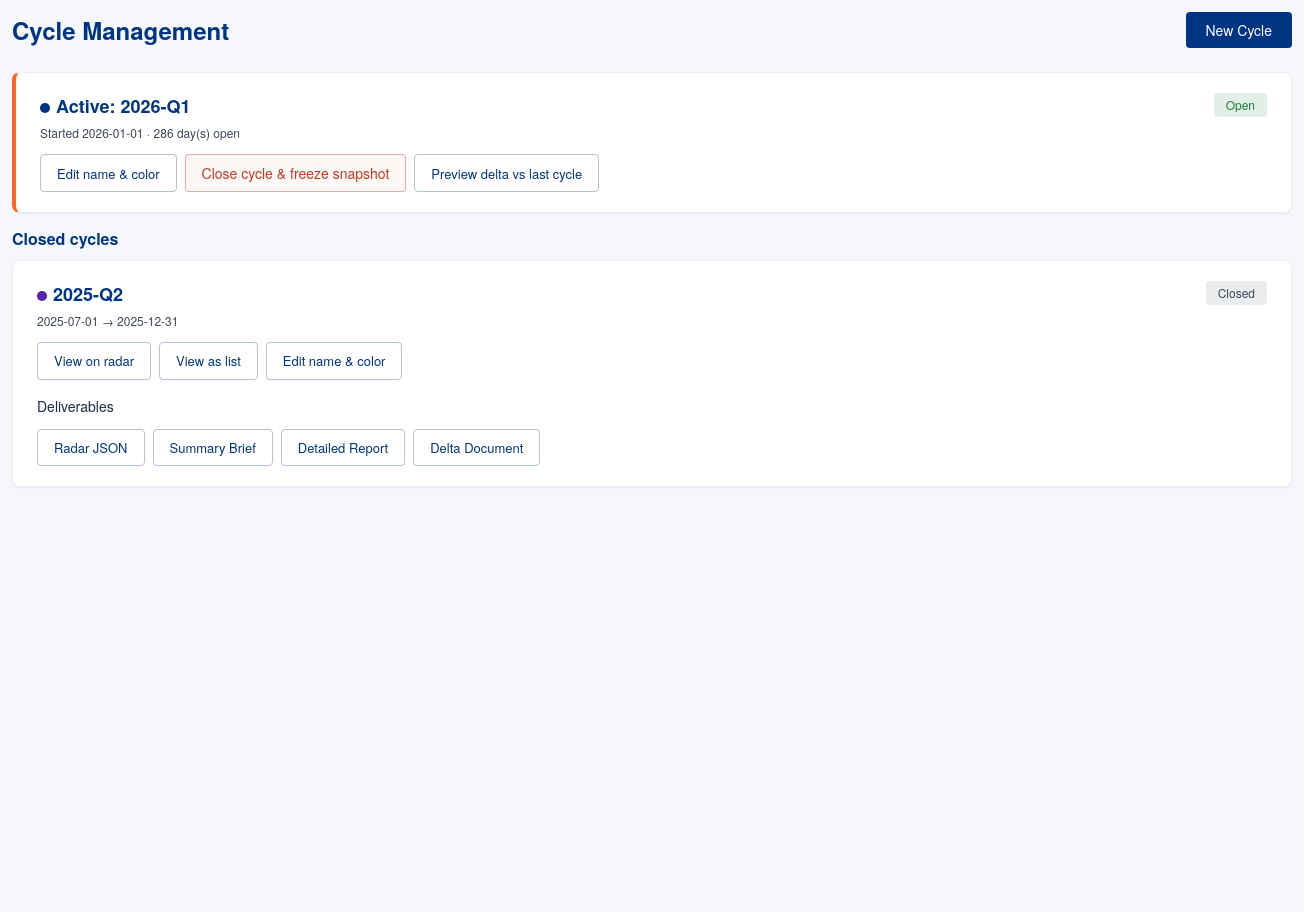
Test: CyclesPage › shows new cycle form when New Cycle clicked
The image size is (1304, 912).
Step 1. Click the button "New Cycle" → (1239, 30), box [1186,12,1292,48]
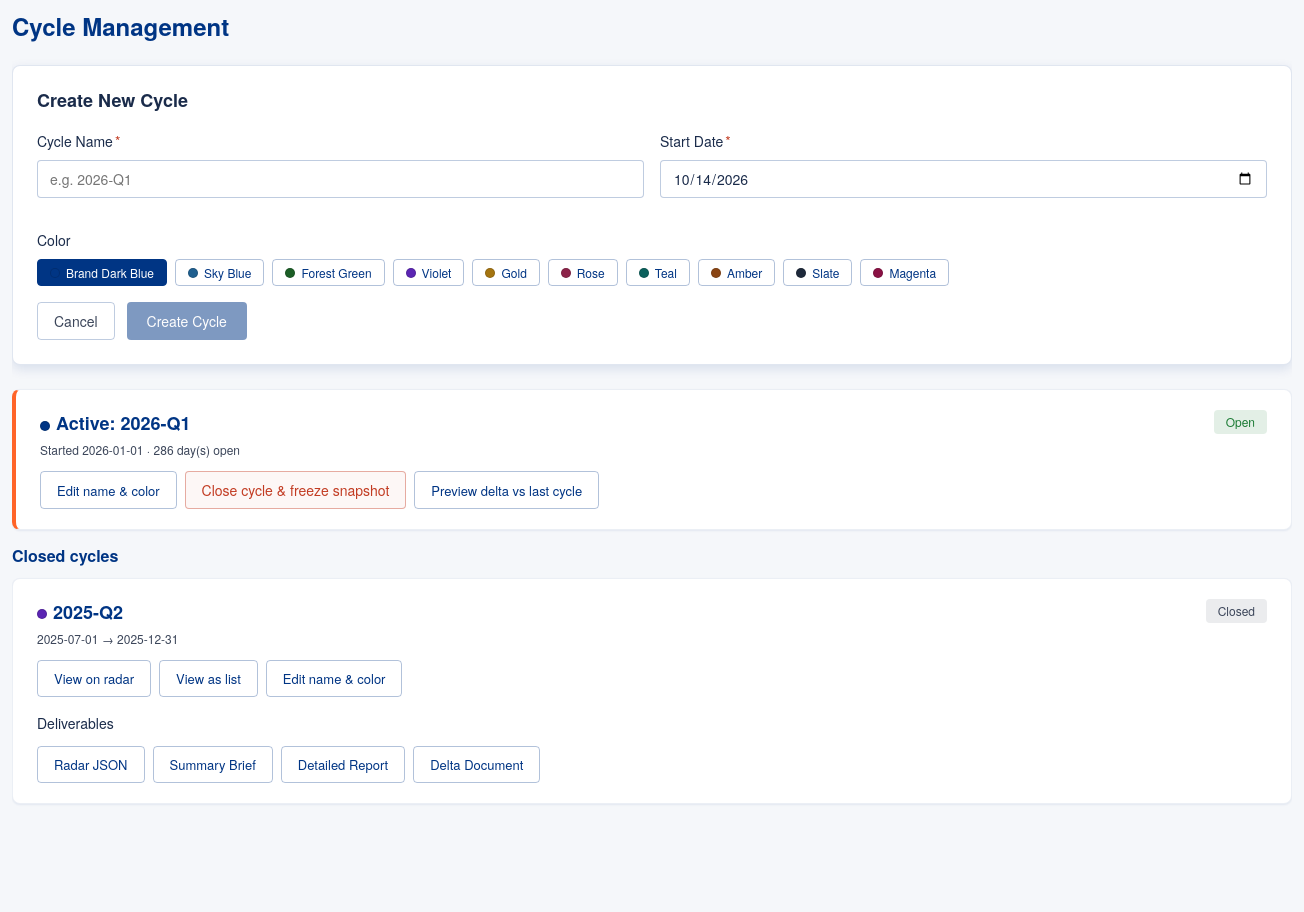
Check: the heading "Create New Cycle" is shown, box [37,87,188,113]
Check: the field labelled "Cycle Name*" is shown, box [37,160,644,198]
Check: the date field labelled "Start Date*" is shown, box [660,160,1267,198]
